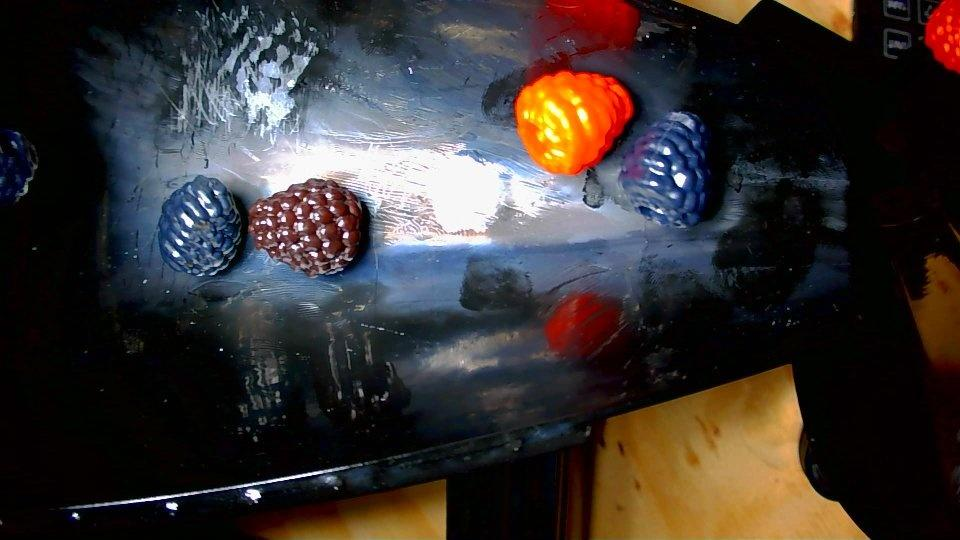berry: (514, 70, 633, 174), (248, 179, 363, 276), (618, 111, 711, 227), (158, 176, 240, 275), (0, 129, 37, 206), (924, 0, 959, 73)
